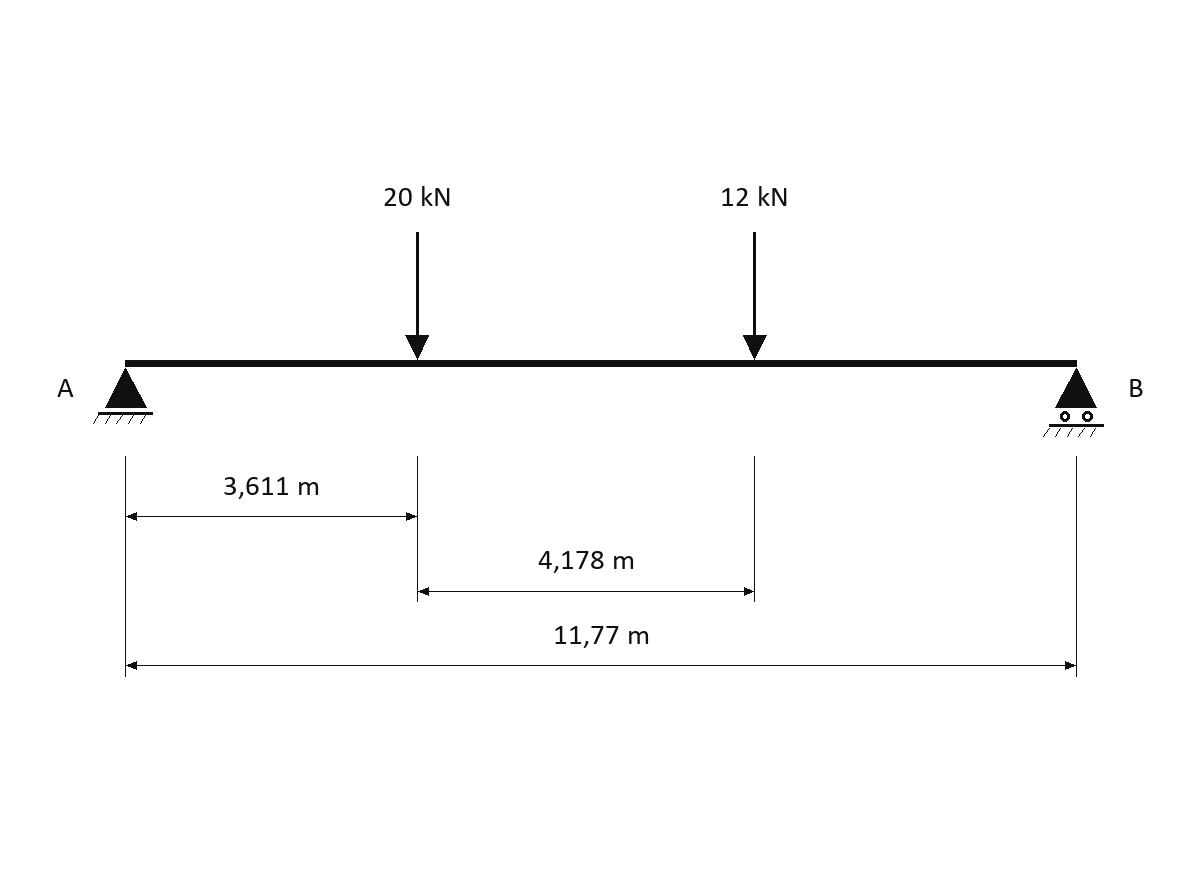pin_support: (93, 368, 153, 424)
point_load: (405, 232, 429, 360), (743, 232, 767, 360)
roller_support: (1043, 368, 1104, 437)
